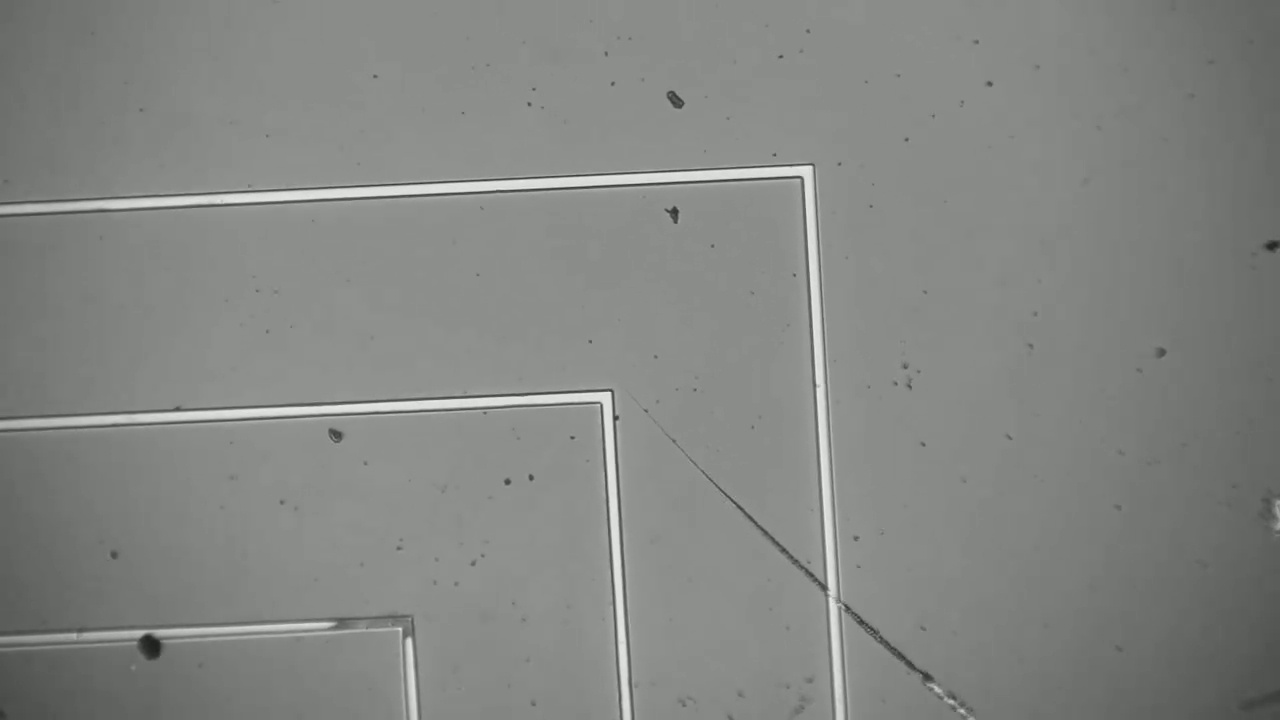gray_line: (319, 607, 423, 644), (388, 601, 423, 655)
scratch: (629, 399, 989, 719)
stains_enbedded: (122, 611, 176, 677)
